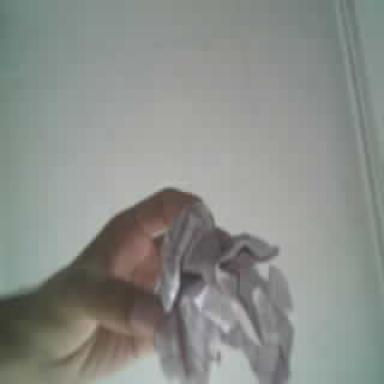paper: (156, 203, 292, 379)
